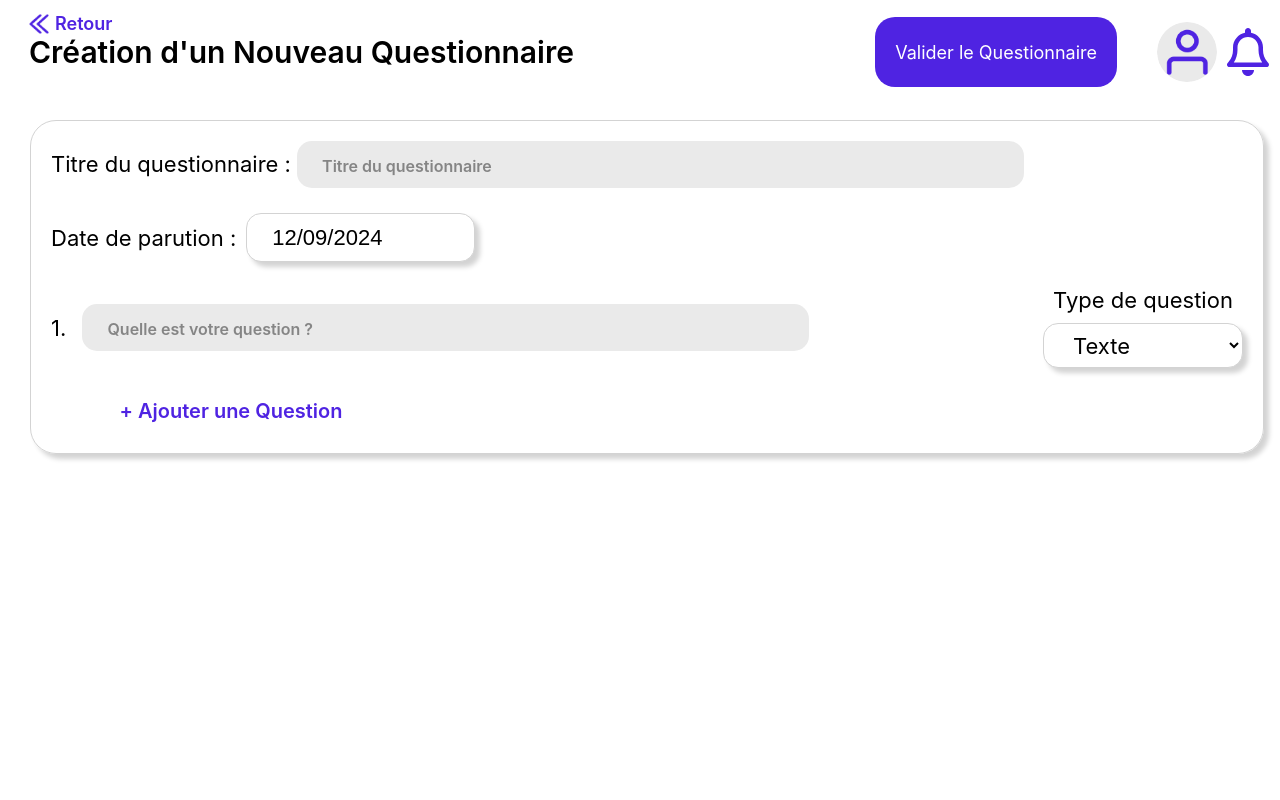
Test: NewFormPage › add and remove a question
Click the button "+ Ajouter une Question": click(231, 410) [56,388,406,433]
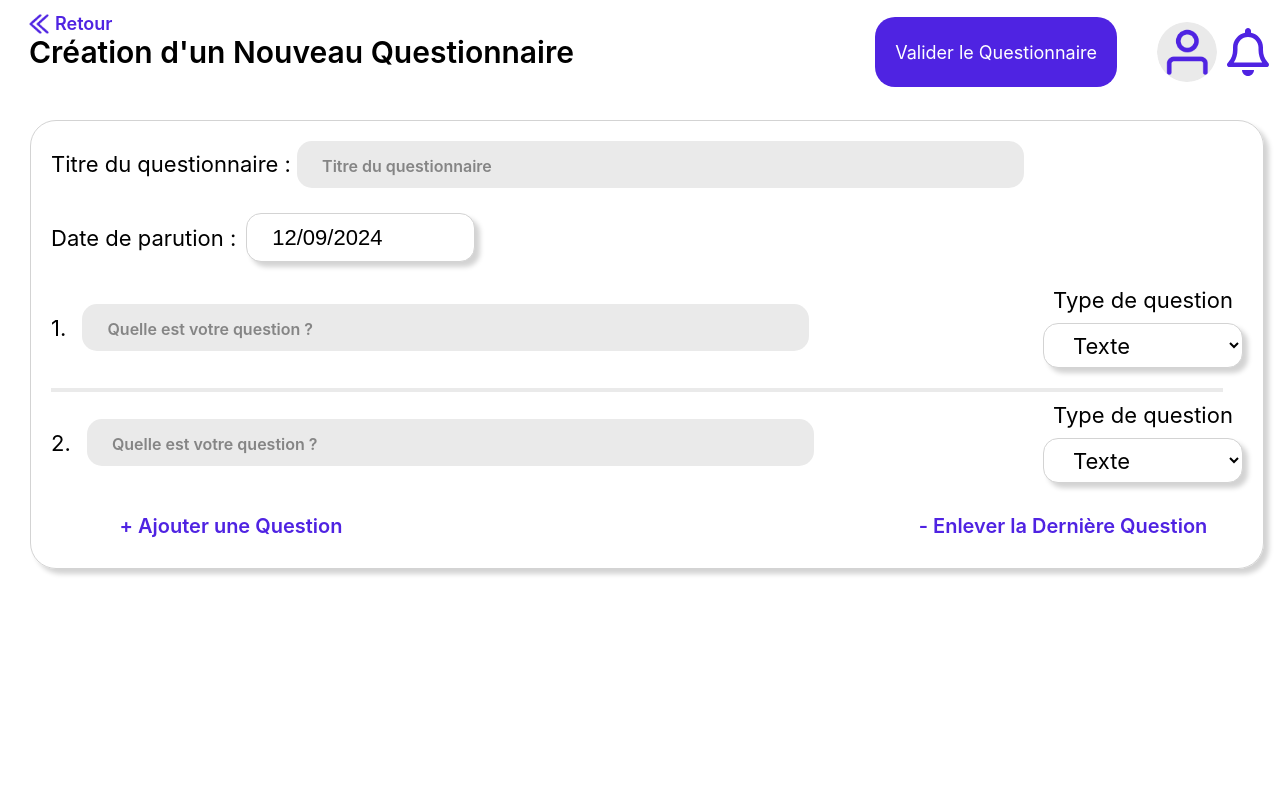
Expected: the text "2." is shown, [51,430,77,456]
Click the button "+ Ajouter une Question": click(231, 526) [56,503,406,548]
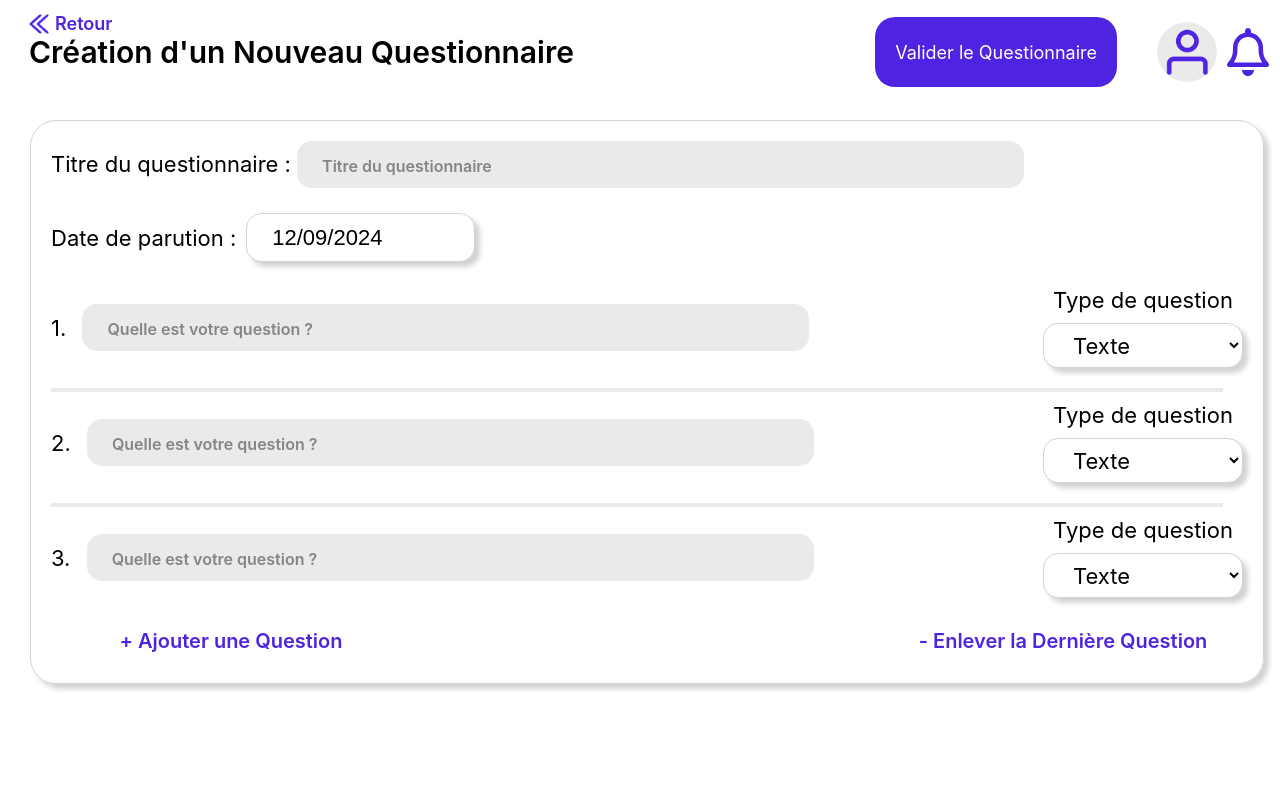
Expected: the text "3." is shown, [51,544,77,570]
Click the button "- Enlever la Dernière Question": click(1063, 640) [888,618,1238,663]
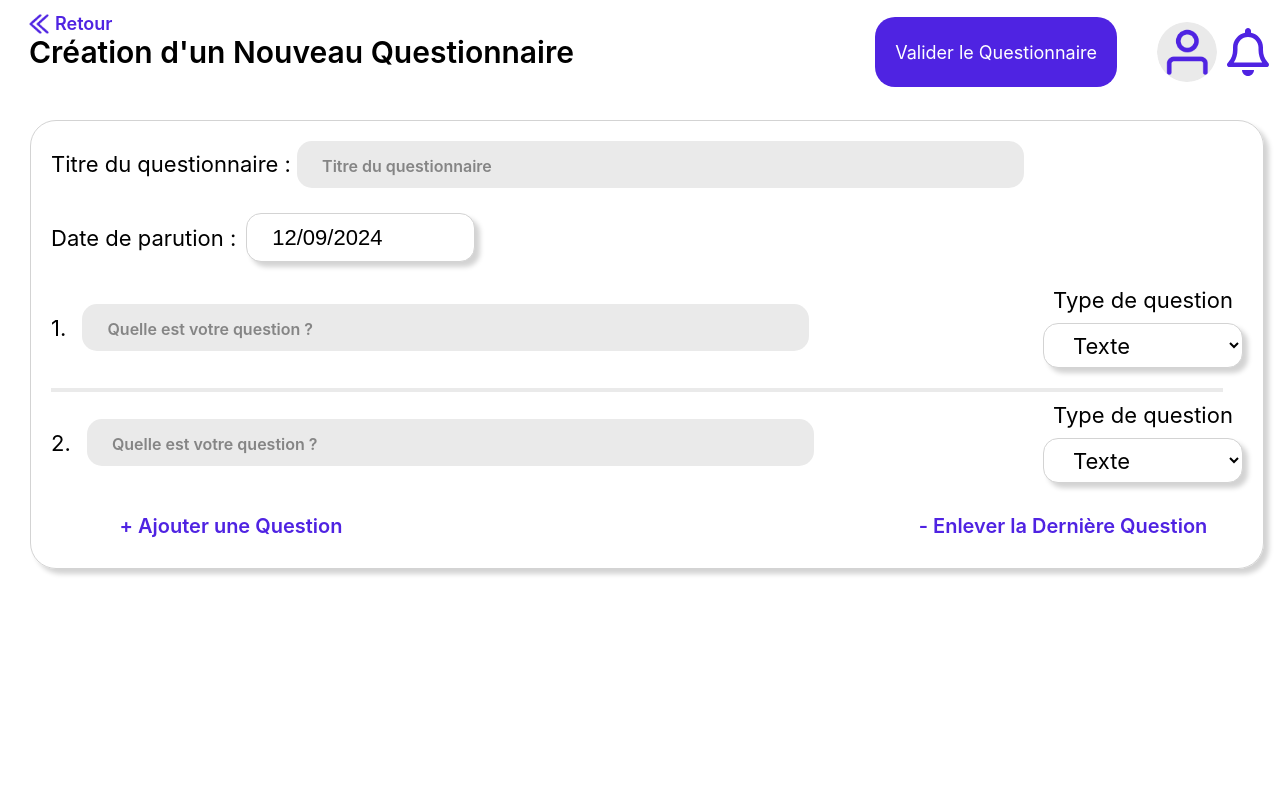
Click the button "- Enlever la Dernière Question": click(1063, 526) [888,503,1238,548]
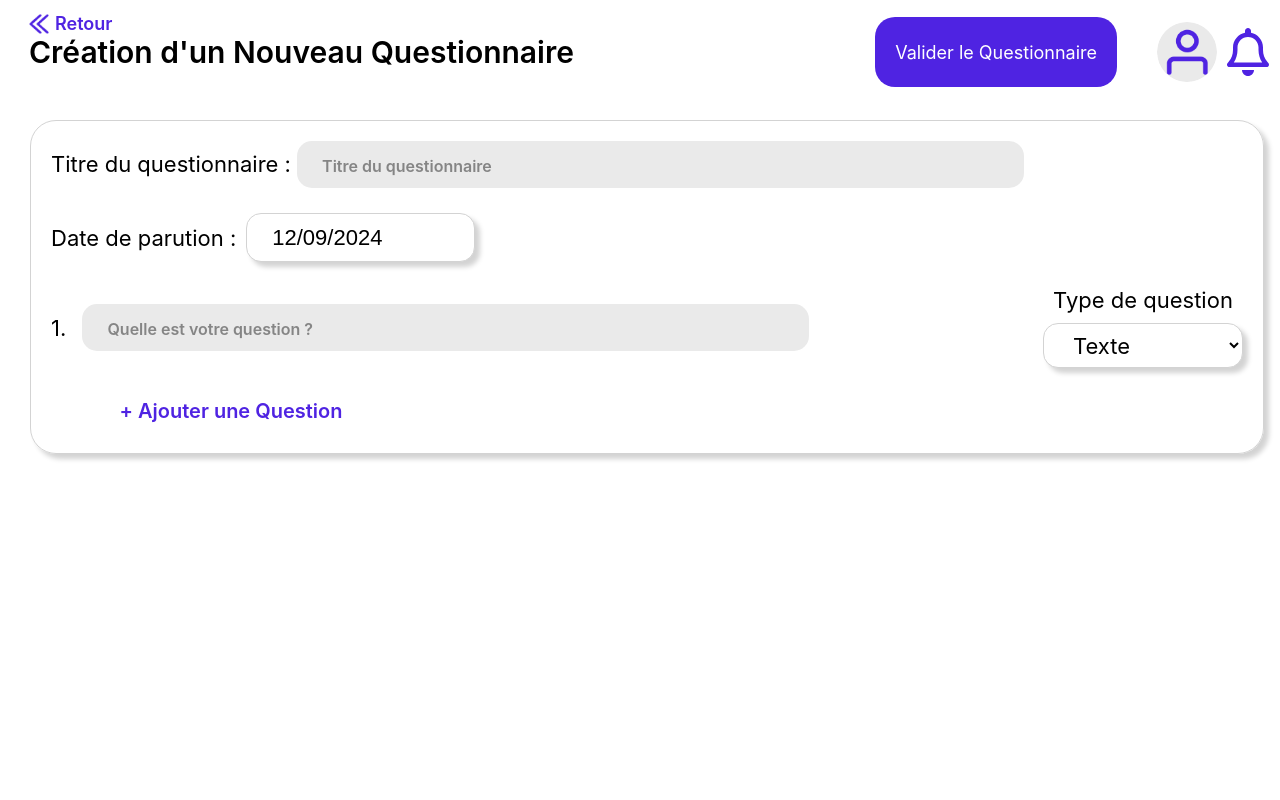
Expected: the text "2." is gone
Expected: the button "- Enlever la Dernière Question" is gone
